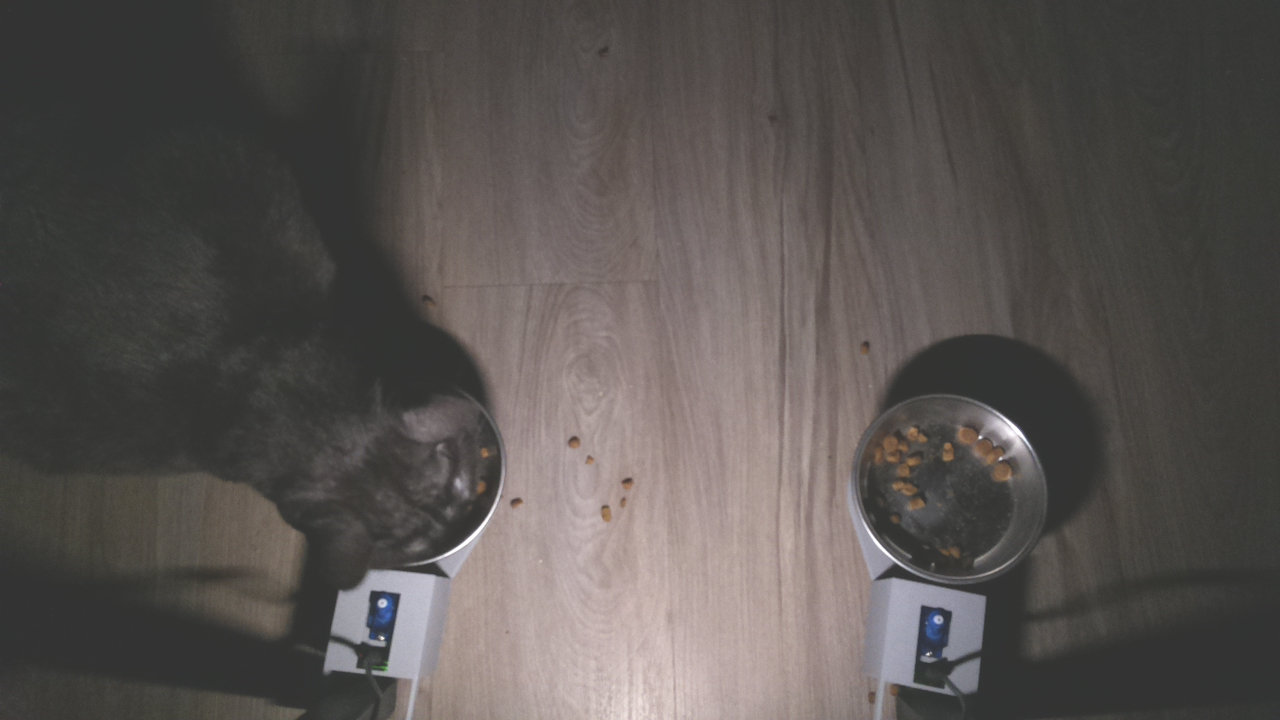open_bowl: (847, 391, 1056, 589)
saki_eating: (265, 307, 505, 605)
